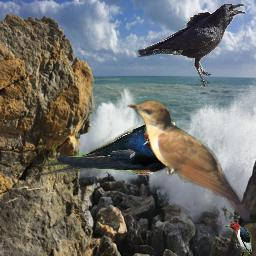Crow: (137, 3, 246, 88)
Cuckoo: (127, 100, 250, 221)
Swallow: (40, 119, 182, 175)
Woodpecker: (225, 222, 252, 256)
